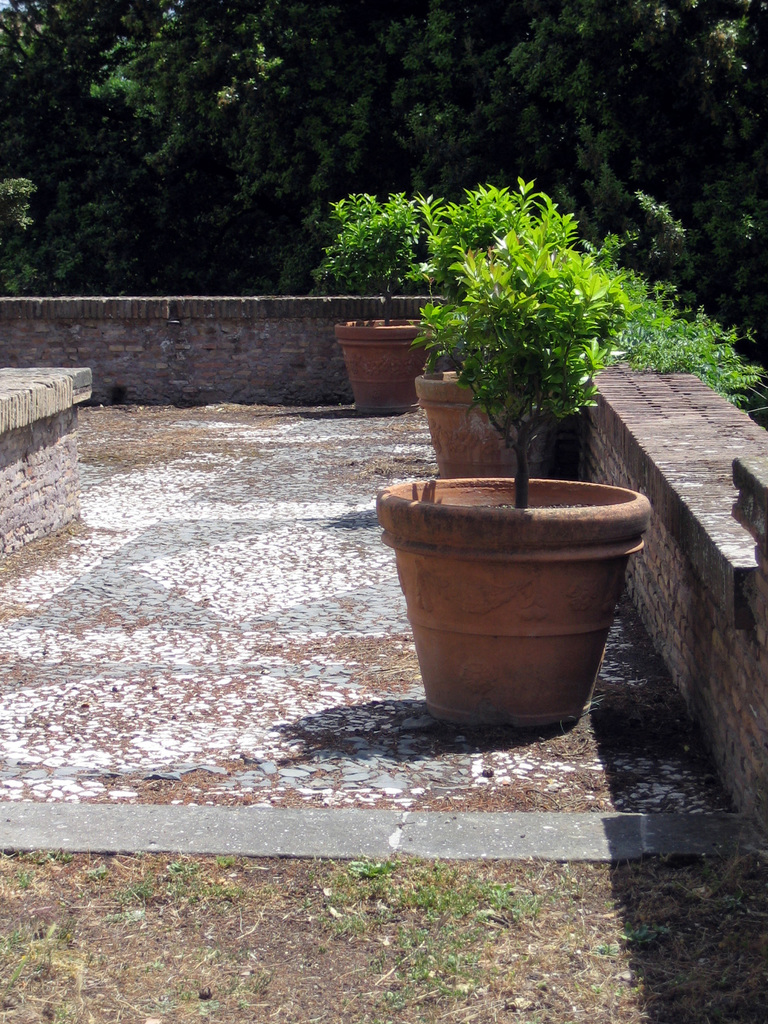Tree: (0, 0, 767, 371)
